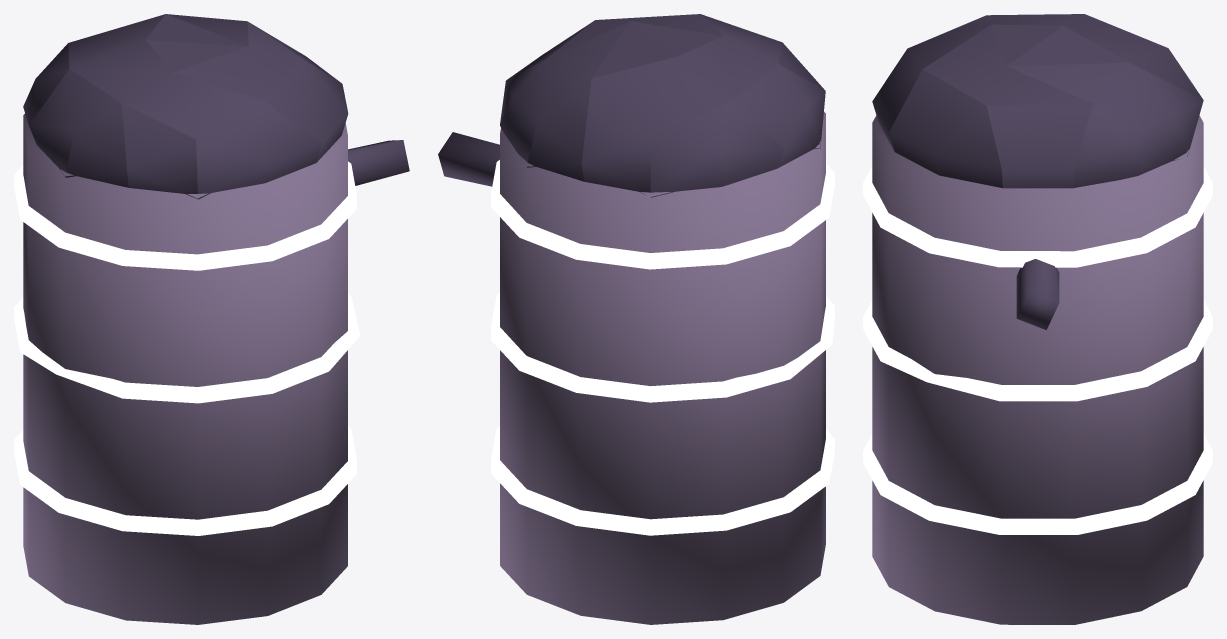
Rendered from SM_Labor_Tank_LOD2.fbx.
The picture shows the model from 3 angles, left to right: view 1: azimuth 30°, elevation 25°; view 2: azimuth 150°, elevation 25°; view 3: azimuth 270°, elevation 25°; orthographic projection.
Parts seen in each view (by area): view 1: SM_Labor_Tank_LOD2; view 2: SM_Labor_Tank_LOD2; view 3: SM_Labor_Tank_LOD2.
Boxes of the visible parts, left/top/right/bottom form: SM_Labor_Tank_LOD2: left=14, top=14, right=409, bottom=624; SM_Labor_Tank_LOD2: left=438, top=14, right=834, bottom=624; SM_Labor_Tank_LOD2: left=863, top=14, right=1212, bottom=624.
Bounding box in the file's own units: 2.29 × 3.1 × 1.9.
